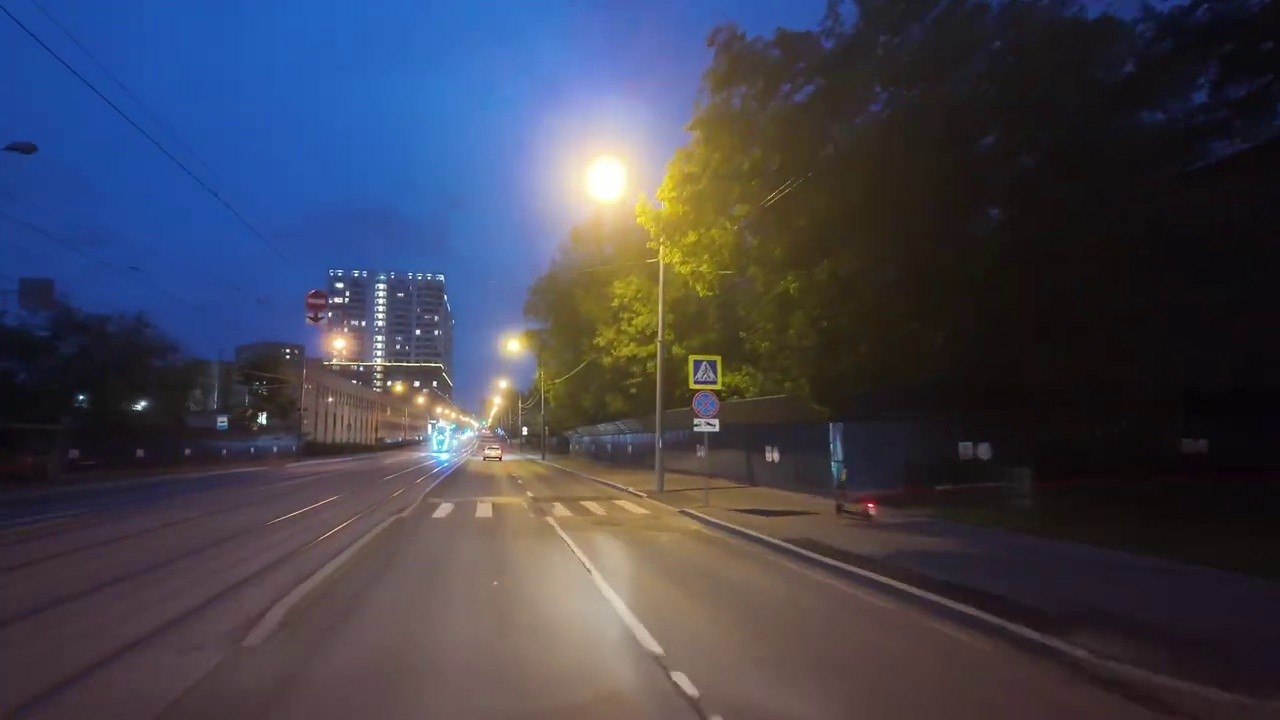acesa: (574, 151, 638, 216), (324, 330, 356, 363), (501, 331, 534, 359)
